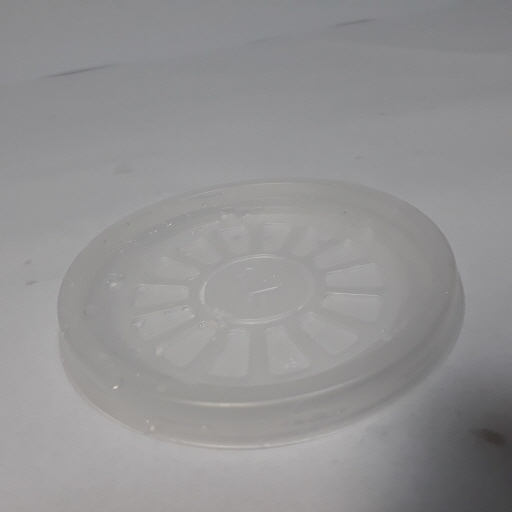Plastic_5: (57, 175, 466, 450)
